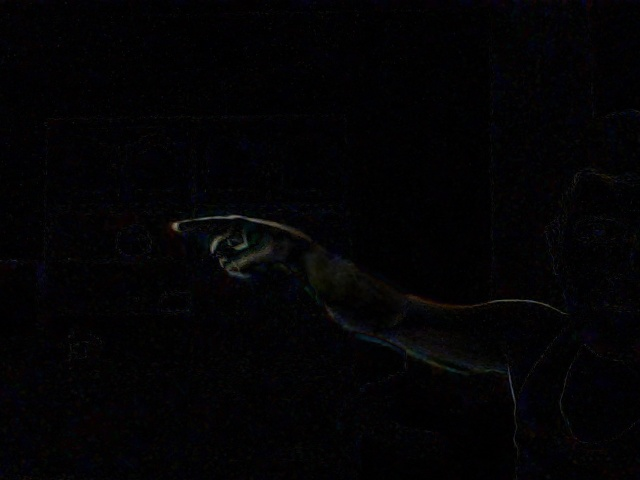hand_po: (159, 201, 312, 291)
